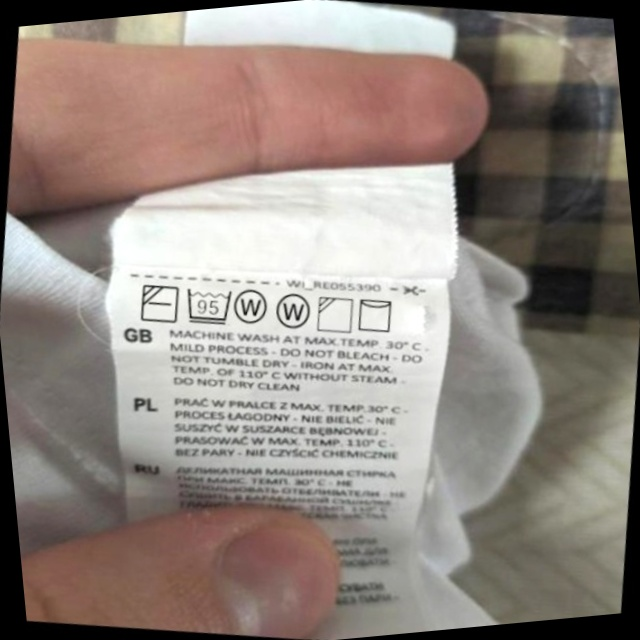95C: (180, 280, 238, 331)
dry_flat_in_shade: (134, 277, 184, 329)
line_dry: (352, 291, 400, 339)
shade_dry: (311, 290, 359, 339)
wet_clean: (270, 288, 317, 336), (230, 281, 275, 330)
